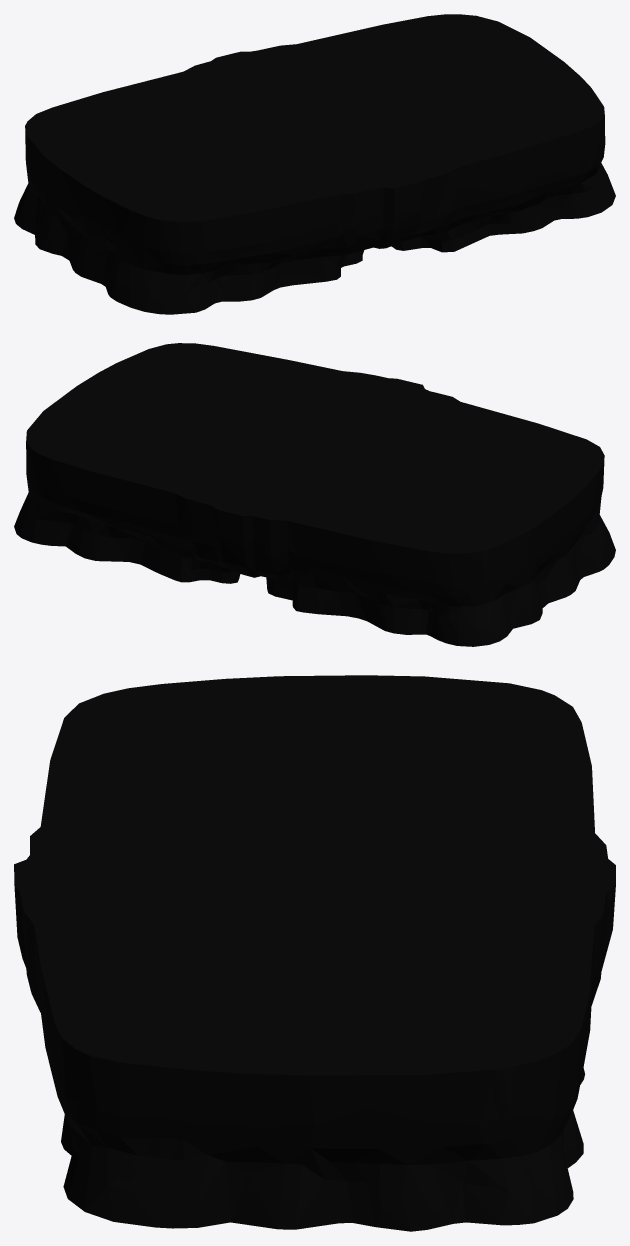
Rendered from LowerTorso.glb.
3 views of the same model, one above another, from view 1: azimuth 30°, elevation 25°; view 2: azimuth 150°, elevation 25°; view 3: azimuth 270°, elevation 25° (orthographic). The views are drawn at different scales.
Parts seen in each view (by area): view 1: LowerTorso; view 2: LowerTorso; view 3: LowerTorso.
Part boxes in pixels (x1=…): LowerTorso: x1=14, y1=14, x2=615, y2=314; LowerTorso: x1=14, y1=343, x2=615, y2=646; LowerTorso: x1=14, y1=675, x2=615, y2=1231.
Size of the model in its own units: 2.32 by 0.4005 by 1.44.
Materials: 1 (1 with a texture image).
